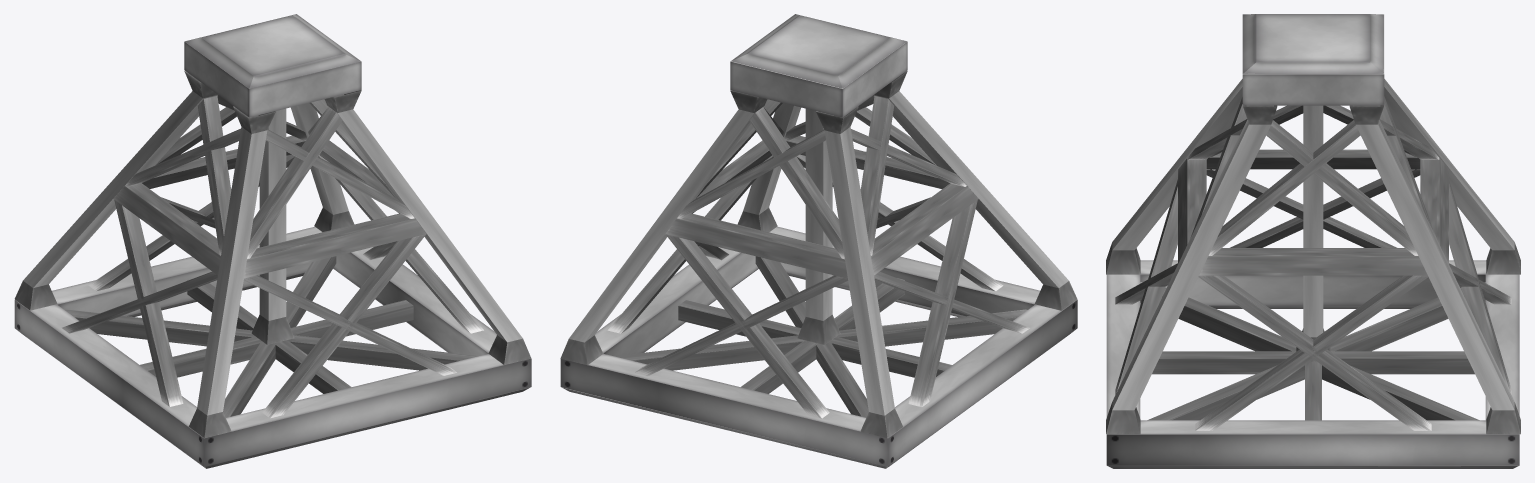
The model's file is WheelJack.FBX.
3 renders of one model, left to right at view 1: azimuth 30°, elevation 25°; view 2: azimuth 150°, elevation 25°; view 3: azimuth 270°, elevation 25°, orthographic. The views are drawn at different scales.
Visible parts, largest first — view 1: Frame002, TopHardpoint001, Pilar002, Pilar013, Pilar014, Bracing019, Bracing023, Bracing013, Bracing031, Pilar006, Bracing026, Bracing020 (+15 smaller); view 2: Frame002, TopHardpoint001, Pilar014, Pilar015, Pilar002, Bracing020, Bracing025, Bracing030, Bracing032, Pilar006, Bracing026, Bracing019 (+15 smaller); view 3: Frame002, TopHardpoint001, Pilar015, Pilar013, Bracing024, Bracing022, Bracing020, Bracing019, Bracing029, Bracing034, Pilar014, Pilar002 (+18 smaller).
Part boxes in pixels (x1,y1,x2,y2): Frame002: (14, 226, 531, 468); TopHardpoint001: (184, 14, 361, 117); Pilar002: (188, 106, 275, 438); Pilar013: (324, 90, 531, 364); Pilar014: (14, 71, 217, 310); Bracing019: (65, 309, 478, 370); Bracing023: (244, 213, 426, 278); Bracing013: (262, 234, 426, 418); Bracing031: (114, 200, 183, 406); Pilar006: (251, 108, 294, 344); Bracing026: (113, 183, 220, 275); Bracing020: (223, 256, 336, 417); Frame002: (560, 226, 1077, 468); TopHardpoint001: (730, 14, 907, 117); Pilar014: (816, 106, 902, 438); Pilar015: (560, 90, 767, 365); Pilar002: (874, 71, 1077, 310); Bracing020: (614, 309, 1027, 370); Bracing025: (665, 213, 847, 278); Bracing030: (665, 234, 829, 418); Bracing032: (908, 200, 977, 406); Pilar006: (797, 108, 840, 344); Bracing026: (871, 183, 978, 275); Bracing019: (755, 256, 868, 417); Frame002: (1106, 260, 1519, 468); TopHardpoint001: (1242, 14, 1384, 105); Pilar015: (1349, 105, 1520, 434); Pilar013: (1106, 105, 1277, 434); Bracing024: (1199, 248, 1427, 275); Bracing022: (1152, 351, 1474, 374); Bracing020: (1140, 282, 1479, 420); Bracing019: (1147, 282, 1485, 420); Bracing029: (1198, 275, 1431, 430); Bracing034: (1195, 275, 1428, 430); Pilar014: (1384, 79, 1520, 274); Pilar002: (1106, 79, 1242, 274).
Size of what is drawn, in the model's own units: 0.5996 by 0.5556 by 0.6026.
